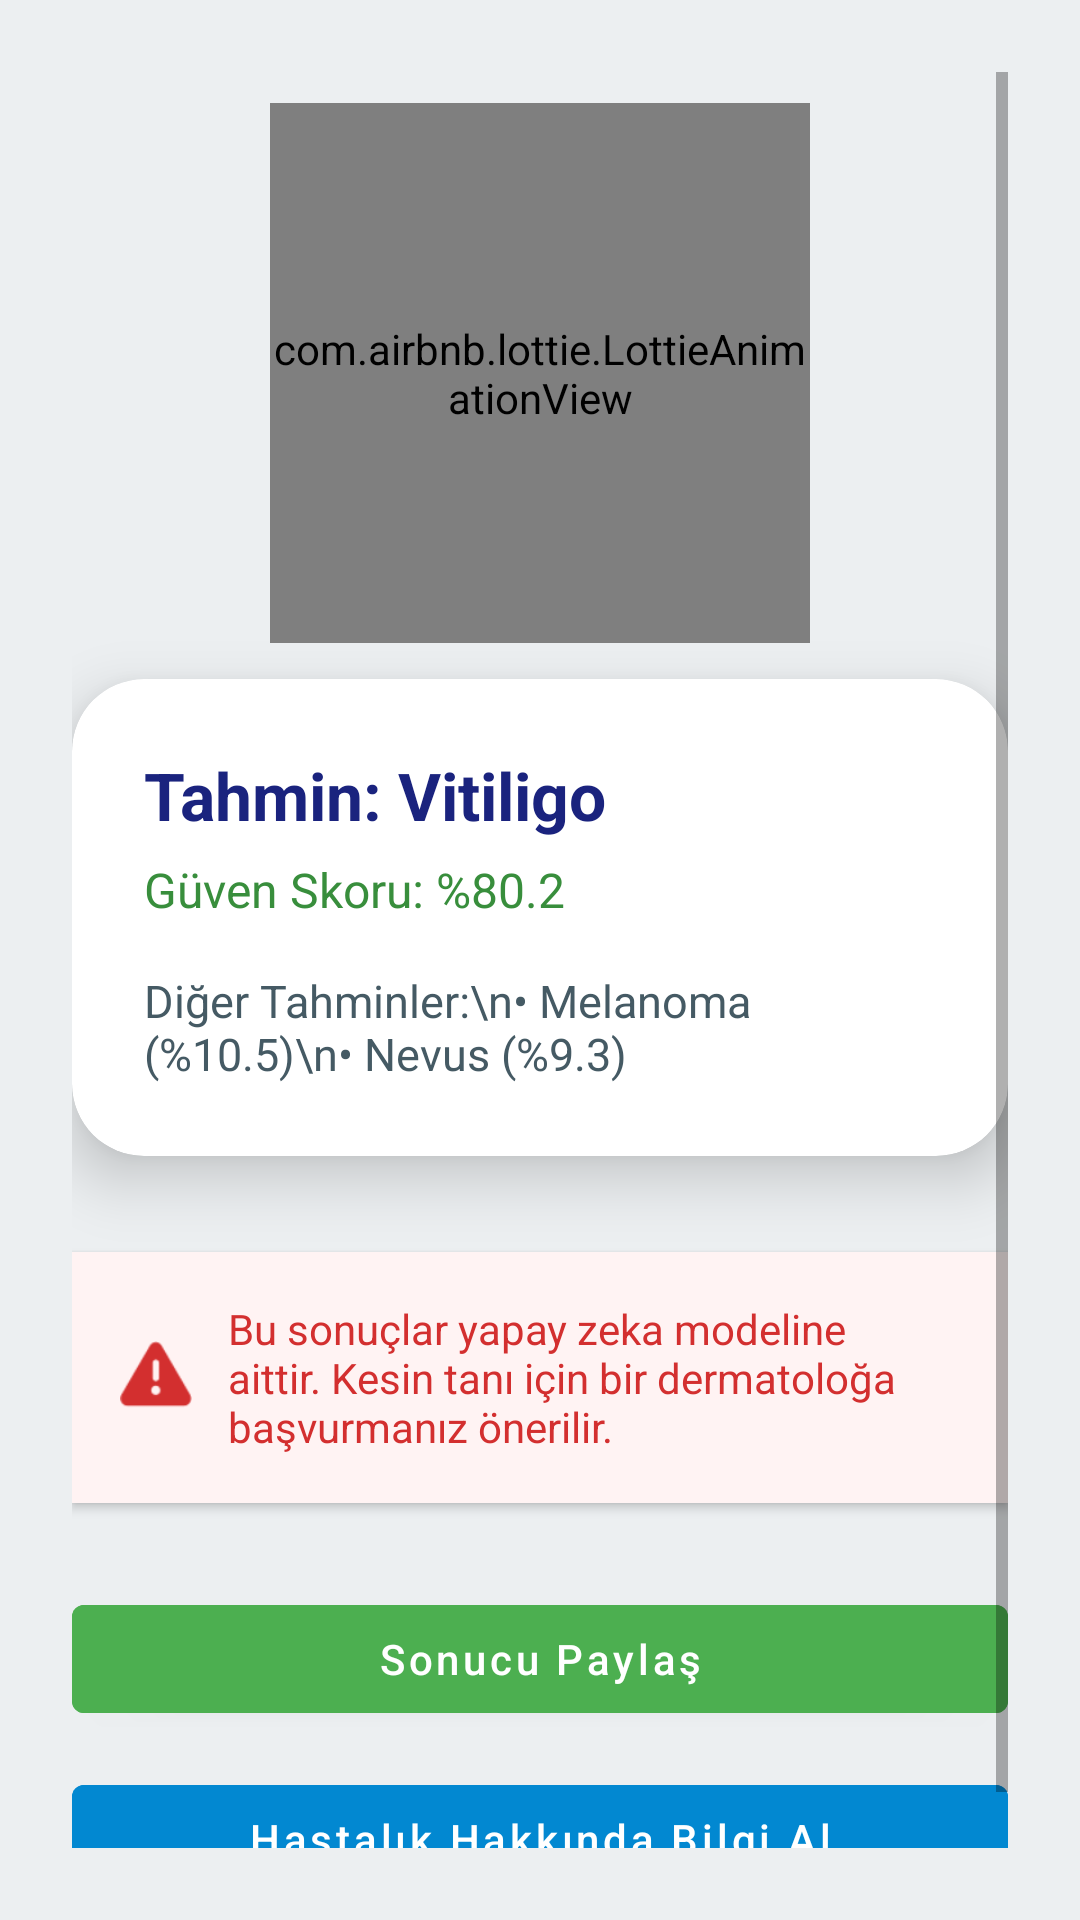

Named icons in this screenshot (1080w x 1920h) and their bounding boxes, (x1, y1, x2, y2):
alert: (120, 1341, 192, 1407)
